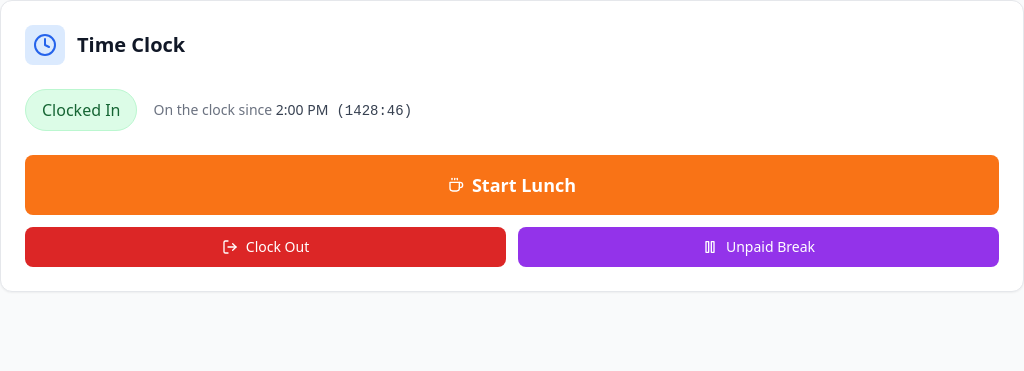
TimeClock — actions dispatch the right endpoint and re-render from the result › ON_CLOCK → Start Lunch hits /clock/lunch/start and the UI becomes ON_LUNCH
What coordinates should you click on to do the following:
click the button "Start Lunch"
I would click on:
 (512, 185)
Its box is [25, 155, 999, 215].
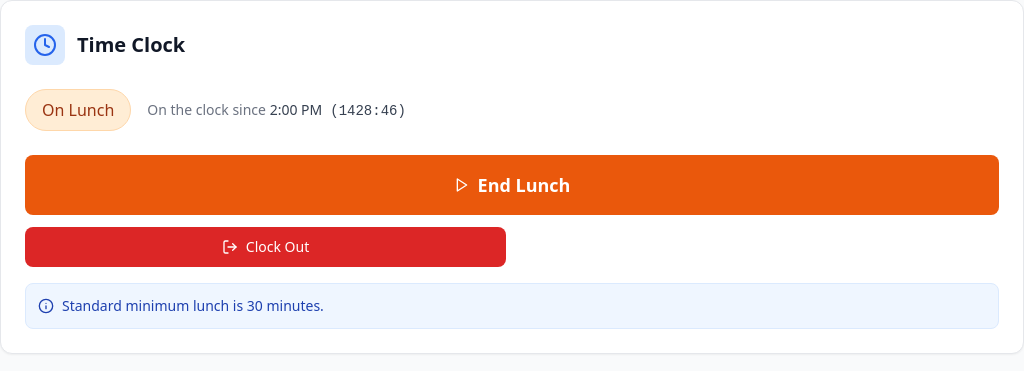
Expected: the button "Clock Out" is shown, [25, 227, 506, 267]
Expected: the button "End Lunch" is shown, [25, 155, 999, 215]
